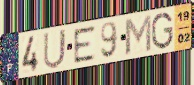4: (20, 34, 40, 73)
9: (100, 21, 119, 59)
E: (72, 24, 97, 65)
G: (151, 11, 174, 51)
M: (123, 13, 153, 57)
U: (42, 27, 68, 71)
